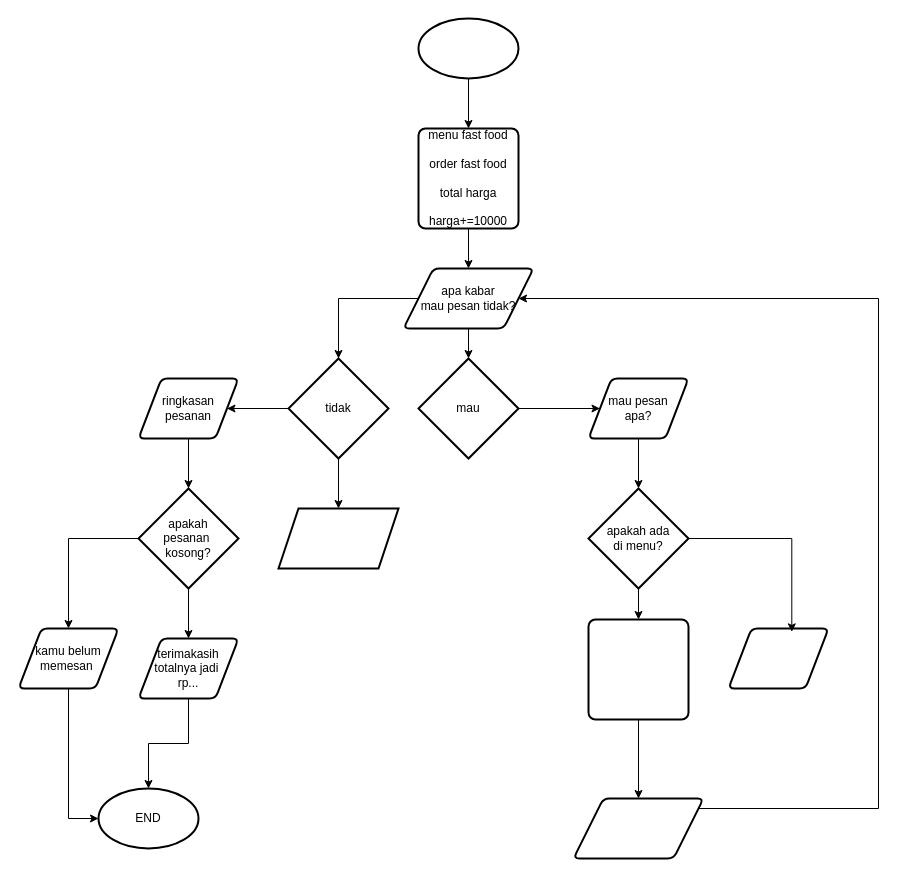
This 904x876 diagram has some shape labels left out. Each missing label, with the box of its shape:
hanya mau atau tidak: (277, 507, 399, 569)
maaf tidak ada di menu: (727, 627, 829, 689)
menambah pesanan harganya jadi..: (572, 797, 704, 859)
Start: (417, 17, 519, 79)
tambahkan ke order: (587, 618, 689, 720)
